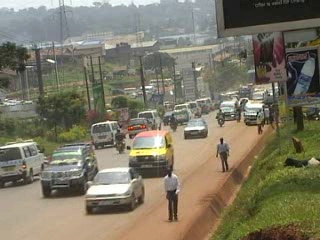Car: (38, 141, 100, 200), (84, 165, 147, 212), (124, 114, 153, 144), (181, 114, 210, 140), (161, 107, 174, 126)
Motorcycle: (112, 126, 128, 152), (215, 108, 226, 128), (168, 110, 178, 132)
